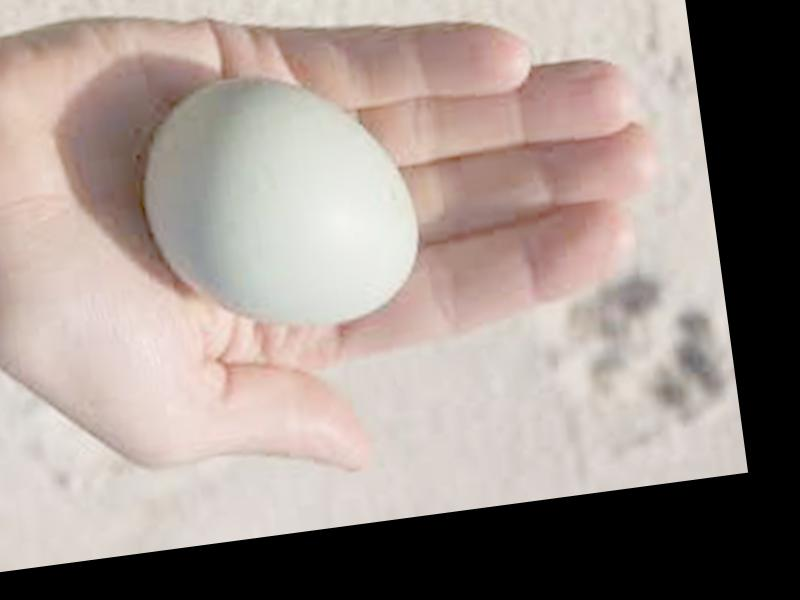Eggs: (136, 59, 431, 342)
